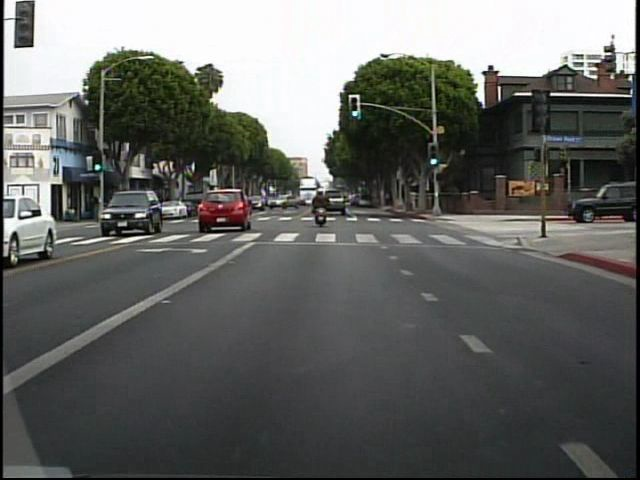person: (311, 183, 338, 230)
